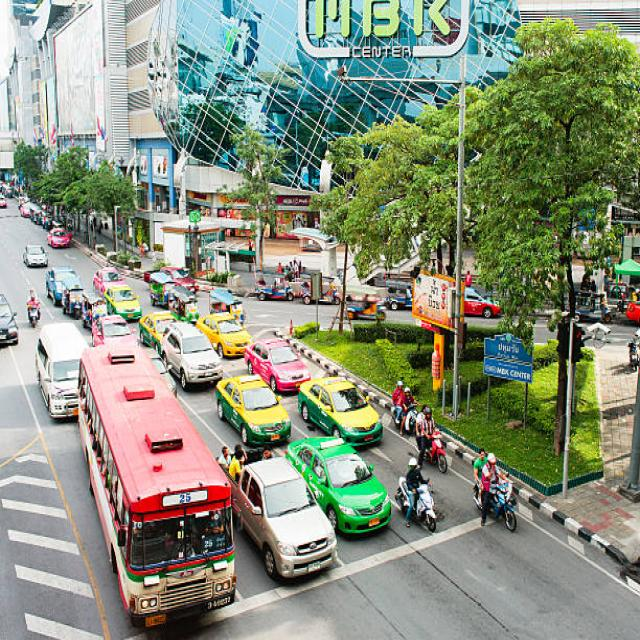high_traffic: (6, 249, 390, 608)
